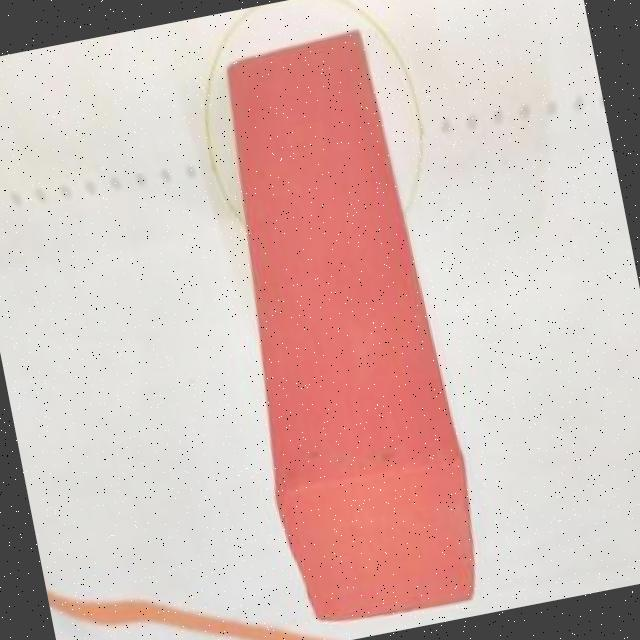redbox: (188, 27, 496, 636)
